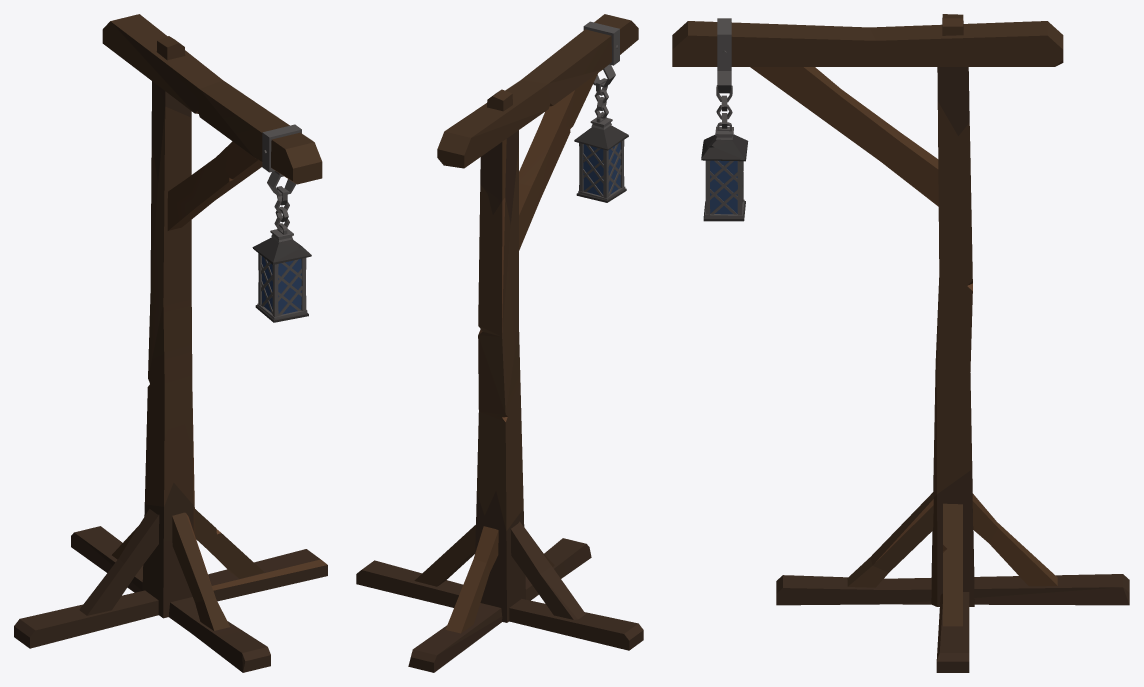
File: LightPole.fbx
3 views of the same model, side by side, from view 1: azimuth 30°, elevation 25°; view 2: azimuth 150°, elevation 25°; view 3: azimuth 270°, elevation 25° (orthographic). The views are drawn at different scales.
Parts seen in each view (by area): view 1: lantern_street_movable_halloween__1_; view 2: lantern_street_movable_halloween__1_; view 3: lantern_street_movable_halloween__1_.
Part boxes in pixels (left/top/right/bottom): lantern_street_movable_halloween__1_: left=14, top=14, right=327, bottom=672; lantern_street_movable_halloween__1_: left=356, top=14, right=643, bottom=672; lantern_street_movable_halloween__1_: left=672, top=14, right=1129, bottom=672.
Size of the model in its own units: 8912 by 16186 by 11533.
